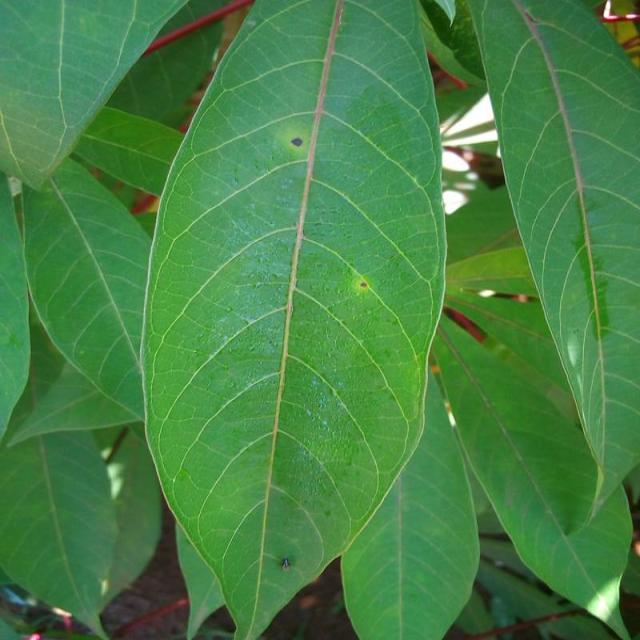cassava leaf: (138, 0, 448, 638), (464, 0, 639, 519)
